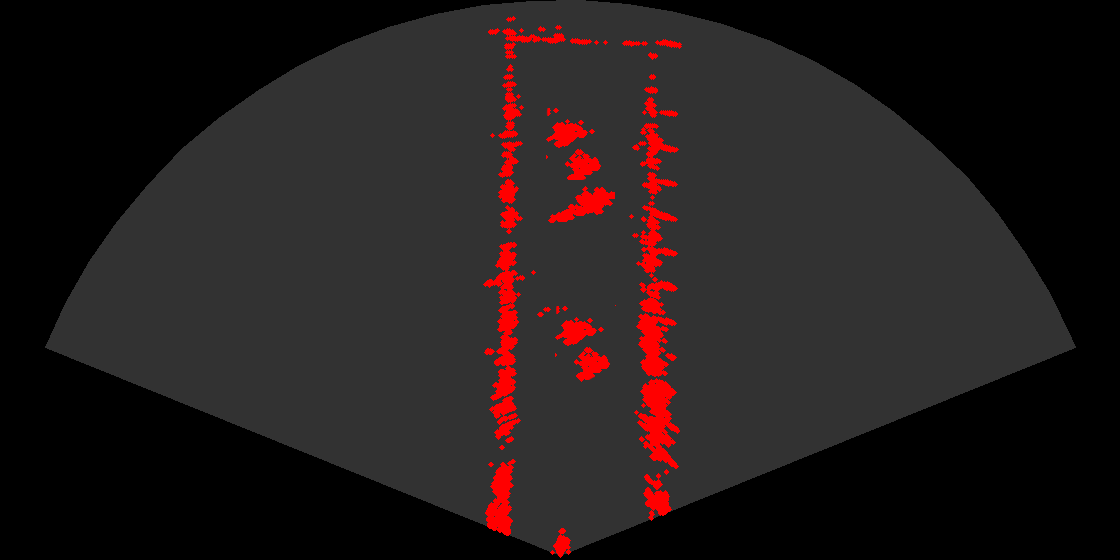cage: (546, 108, 609, 192), (555, 306, 618, 390)
frogman: (547, 180, 615, 227)
